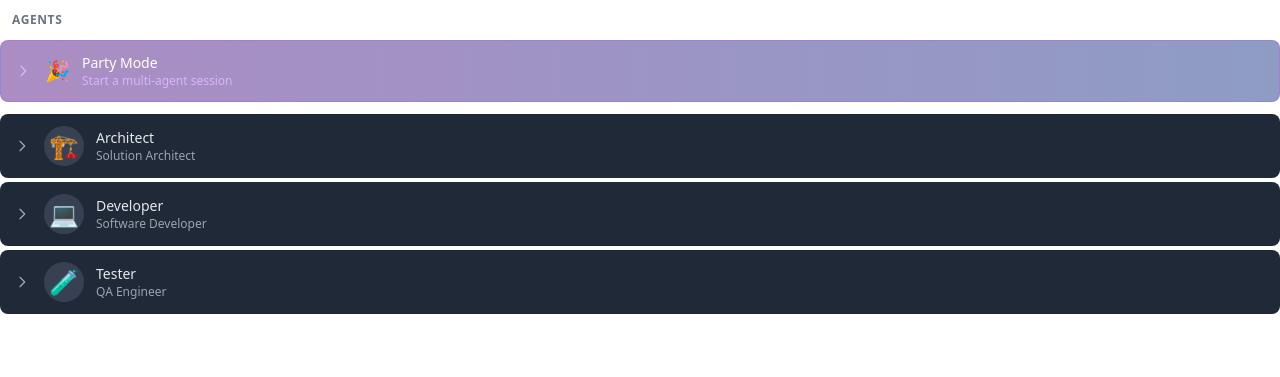
Test: AgentRoster › error handling › shows error feedback when spawn fails
Click the button "🏗️ Architect Solution Architect": (64, 146) [44,126,1268,166]
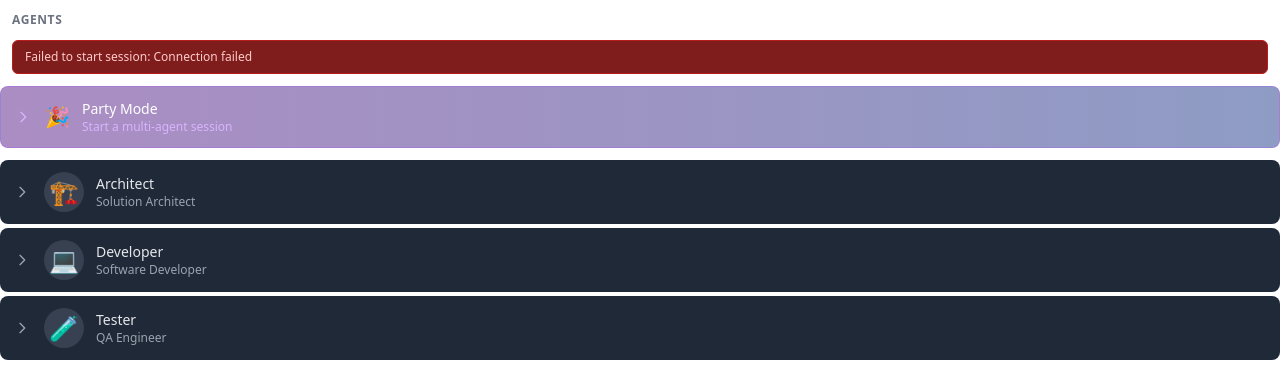
Now the text "Failed to start session: Connection failed" is shown, box [12,40,1268,74]
